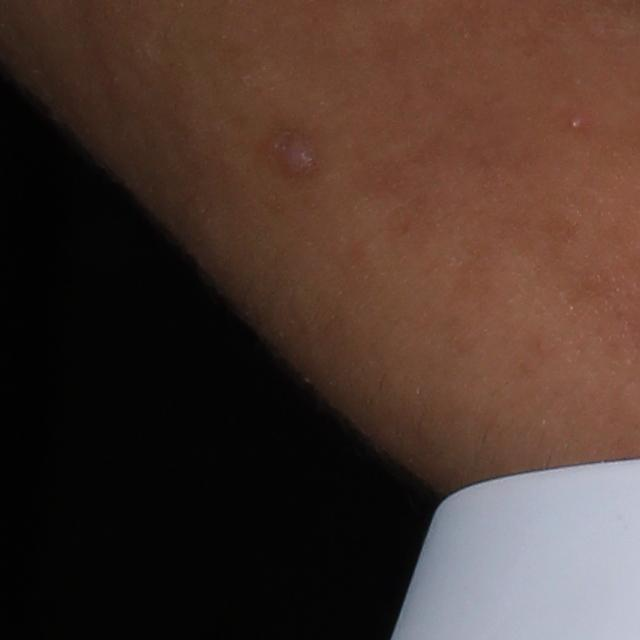papule: (273, 131, 327, 182)
